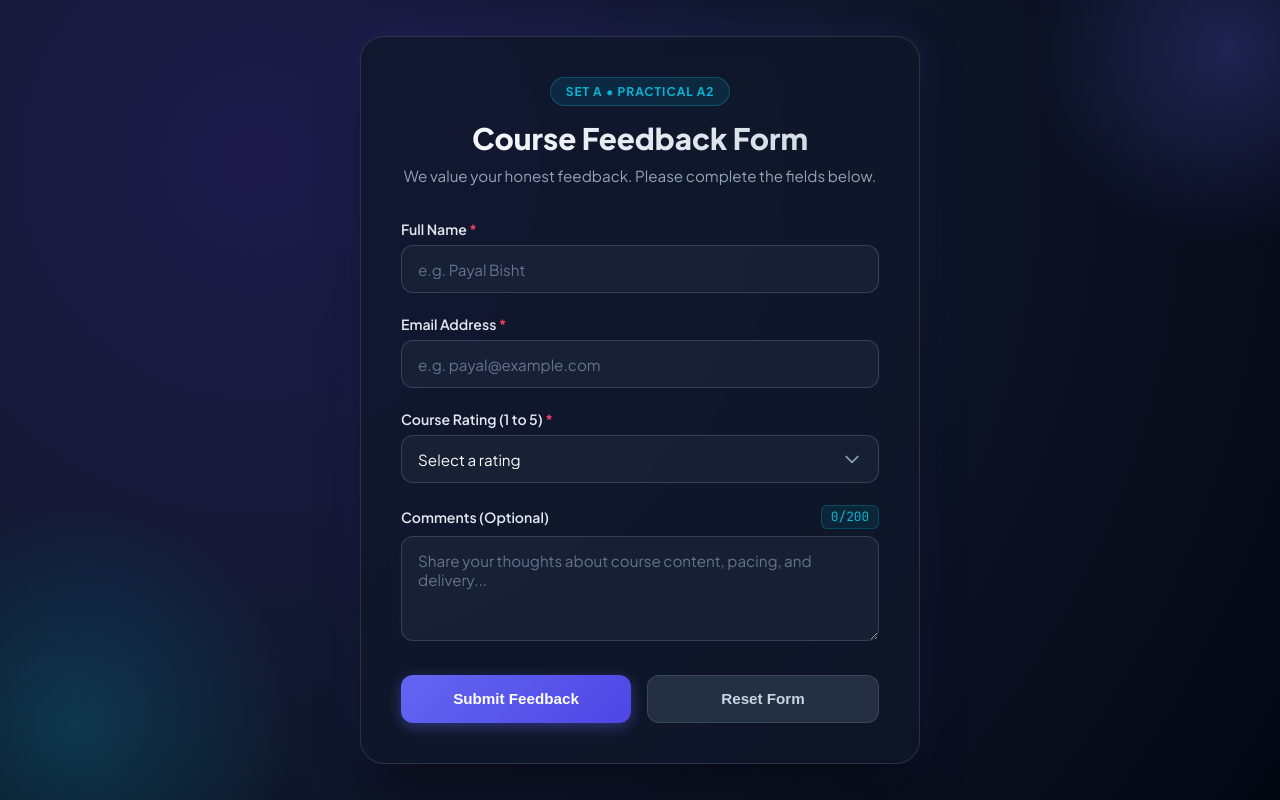
Test: Practical A2: Feedback Form with Validation (React) › renders name-error, email-error, and rating-error when submitting an empty form
Click the button with test id "submit-btn" at (516, 699), box [401,675,631,722]
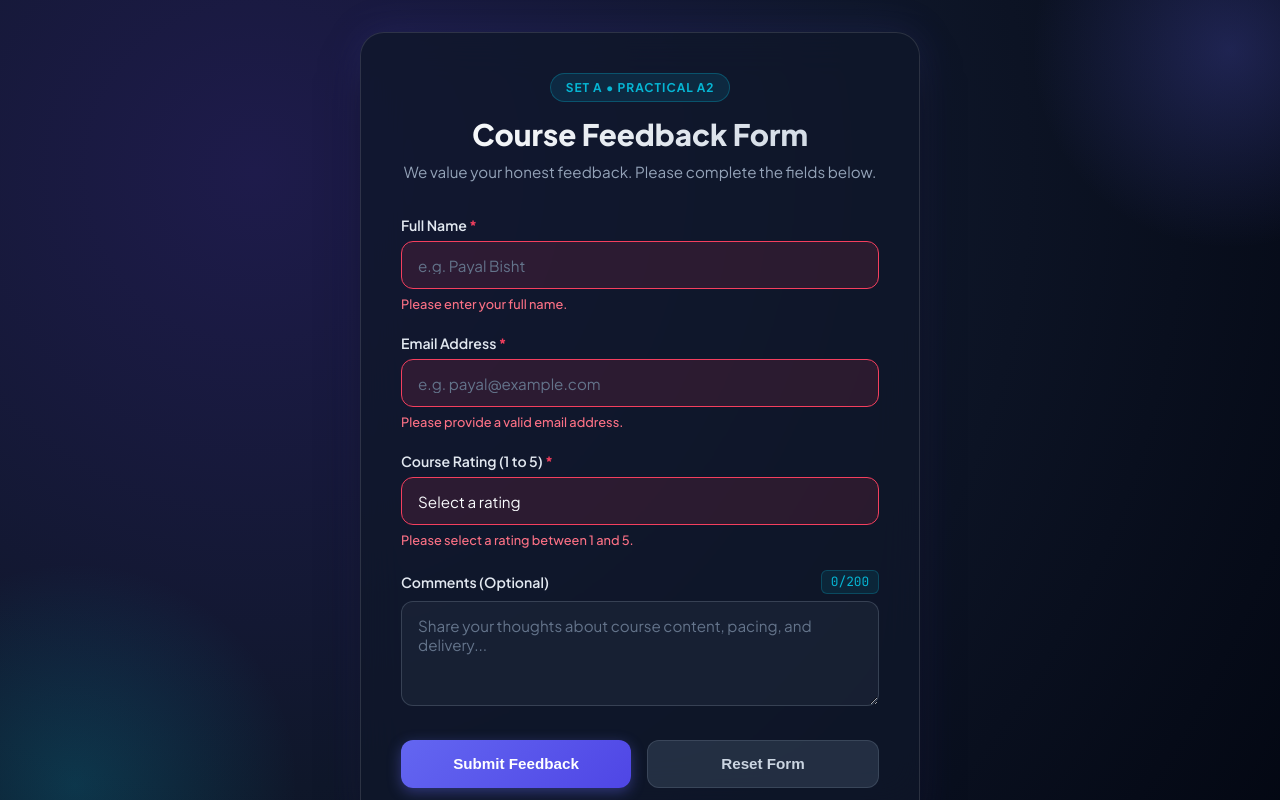
Expected: the text "Please enter your full name." is shown, [401,296,567,312]
Expected: the text "Please provide a valid email address." is shown, [401,414,623,430]
Expected: the text "Please select a rating between 1 and 5." is shown, [401,532,634,548]
